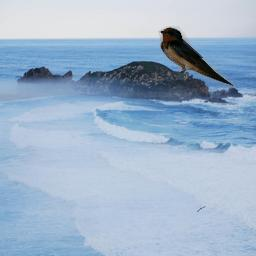Swallow: (158, 26, 235, 87)
